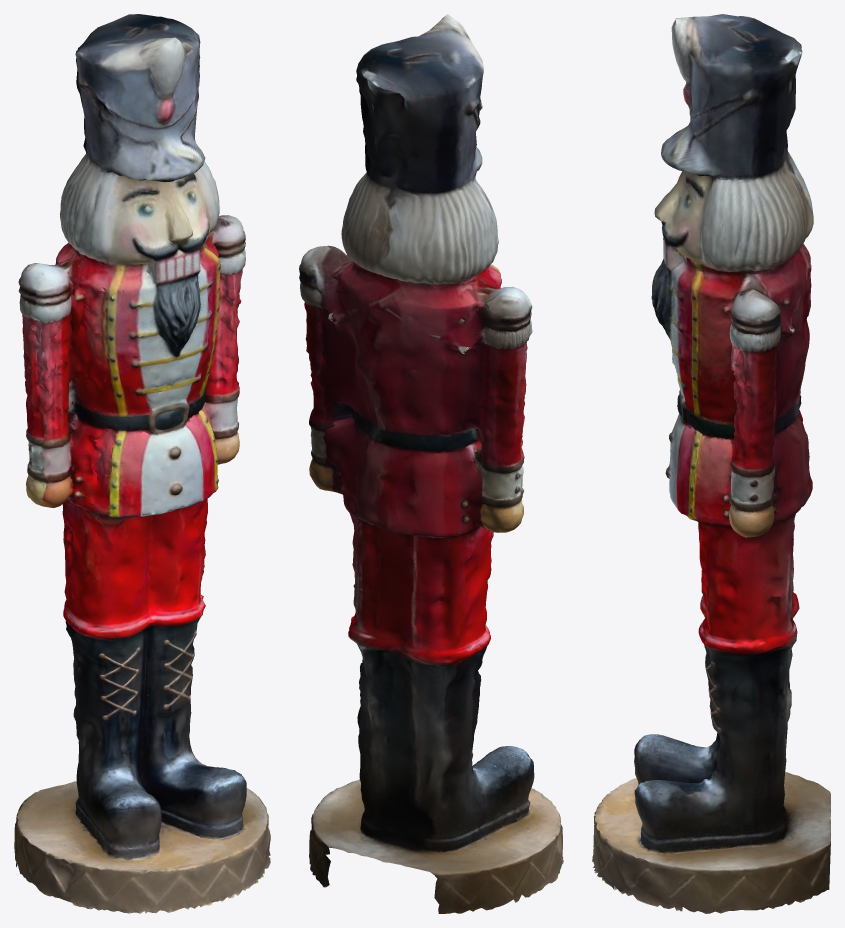
The model's file is nutcracker.glb.
3 renders of one model, left to right at view 1: azimuth 30°, elevation 25°; view 2: azimuth 150°, elevation 25°; view 3: azimuth 270°, elevation 25°, orthographic.
Visible parts, largest first — view 1: nutcracker; view 2: nutcracker; view 3: nutcracker.
Boxes of the visible parts, box(x1,y1,x2,y2) form: nutcracker: box(14, 14, 270, 913); nutcracker: box(299, 14, 563, 913); nutcracker: box(592, 14, 830, 913).
Bounding box in the file's own units: 0.6391 × 2.23 × 0.5717.
1 material, 1 textured.
